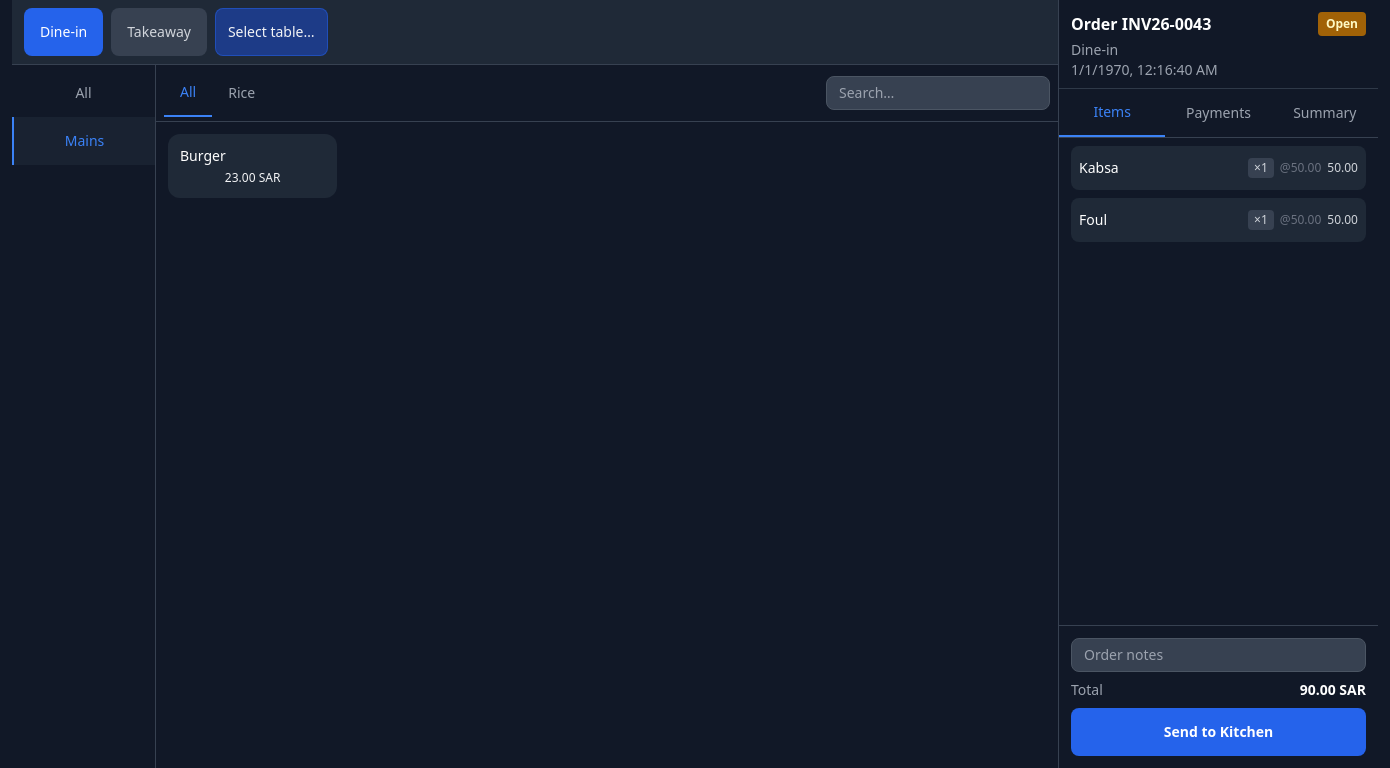
Test: OrderPage — Promotion Discount display (slice 9) › summary shows the stamped Promotion line and payable; outstanding uses payable
This screenshot has width=1390, height=768.
Expected: the heading "Order INV26-0043" is shown, left=1071, top=12, right=1211, bottom=36
Click the button "Summary" at x=1325, y=113, box left=1272, top=89, right=1378, bottom=137
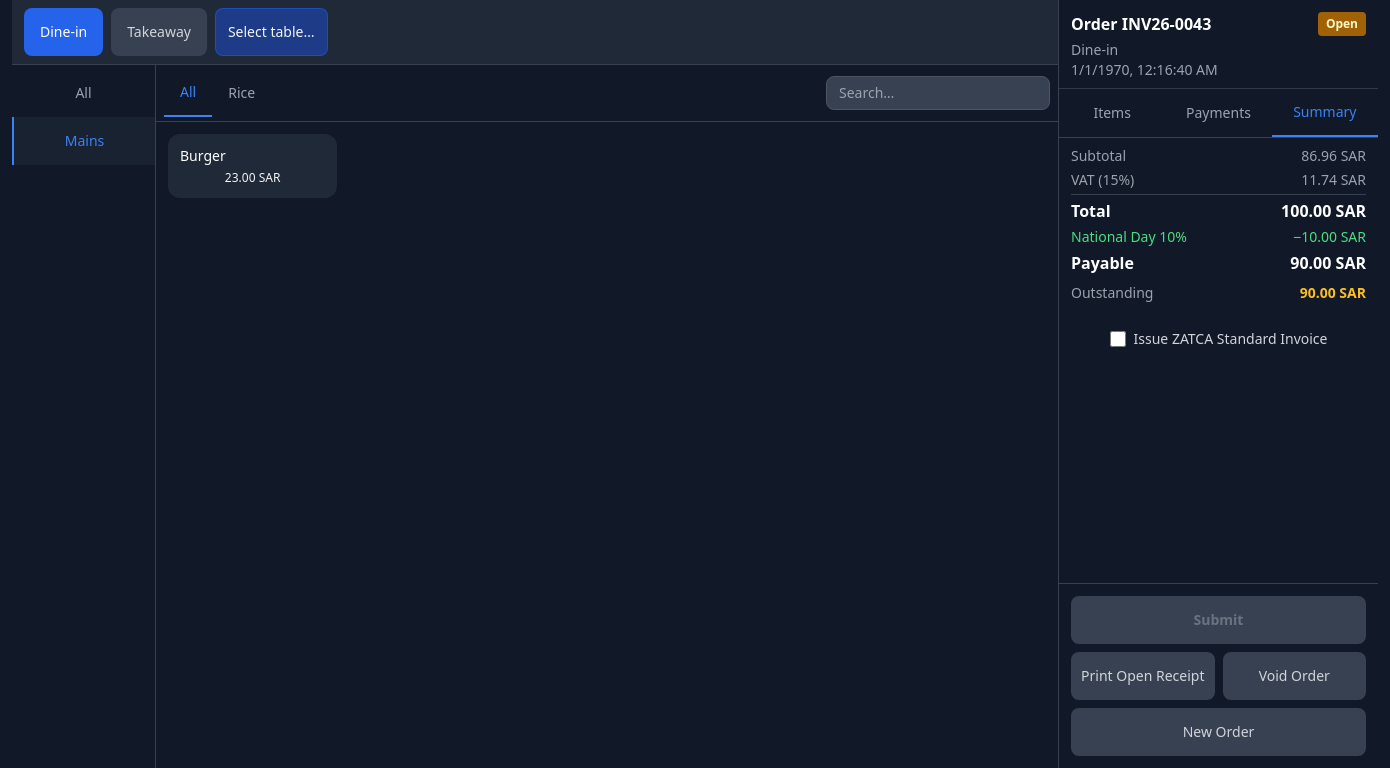
Now the text "National Day 10%" is shown, box left=1071, top=227, right=1187, bottom=247
Now the text "−10.00 SAR" is shown, box left=1293, top=227, right=1366, bottom=247
Now the text "100.00 SAR" is shown, box left=1281, top=199, right=1366, bottom=223
